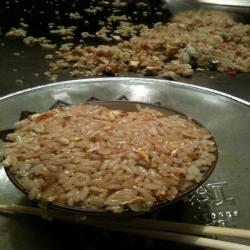rice: (13, 109, 216, 210), (74, 17, 250, 77)
